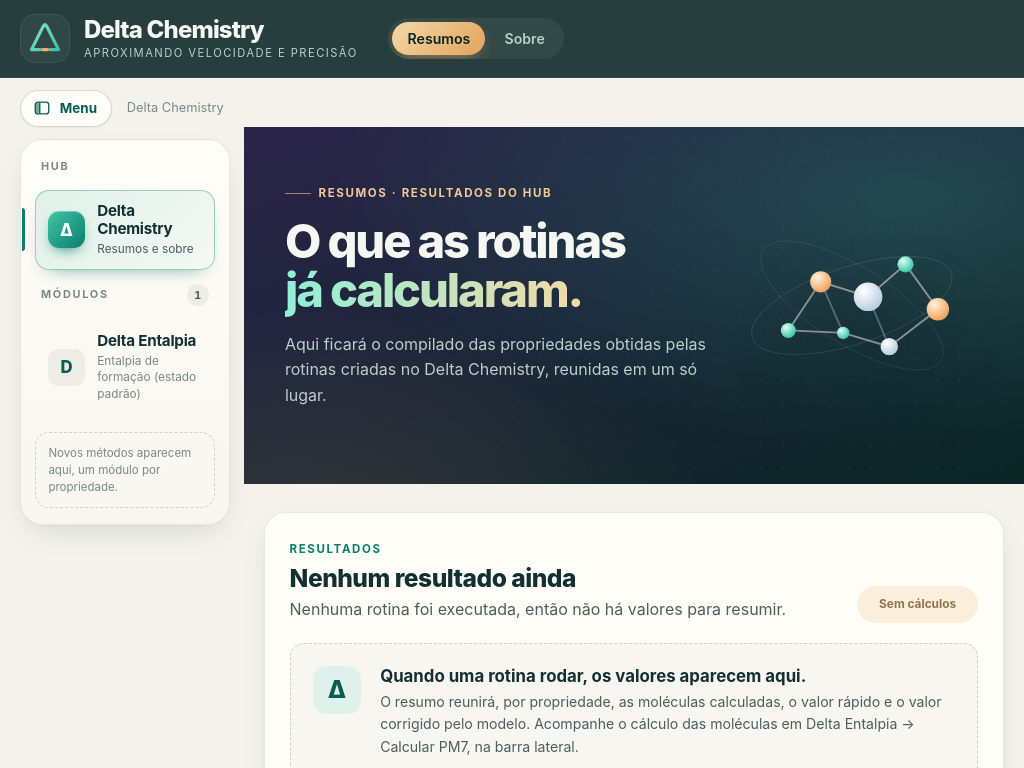
abre no hub Delta Chemistry: Resumos e Sobre, sem as abas do módulo
Expected: the heading "Nenhum resultado ainda" is shown, [290, 563, 576, 593]
Click the button "Sobre" at (525, 38), box [489, 22, 560, 55]
(page scrolled)
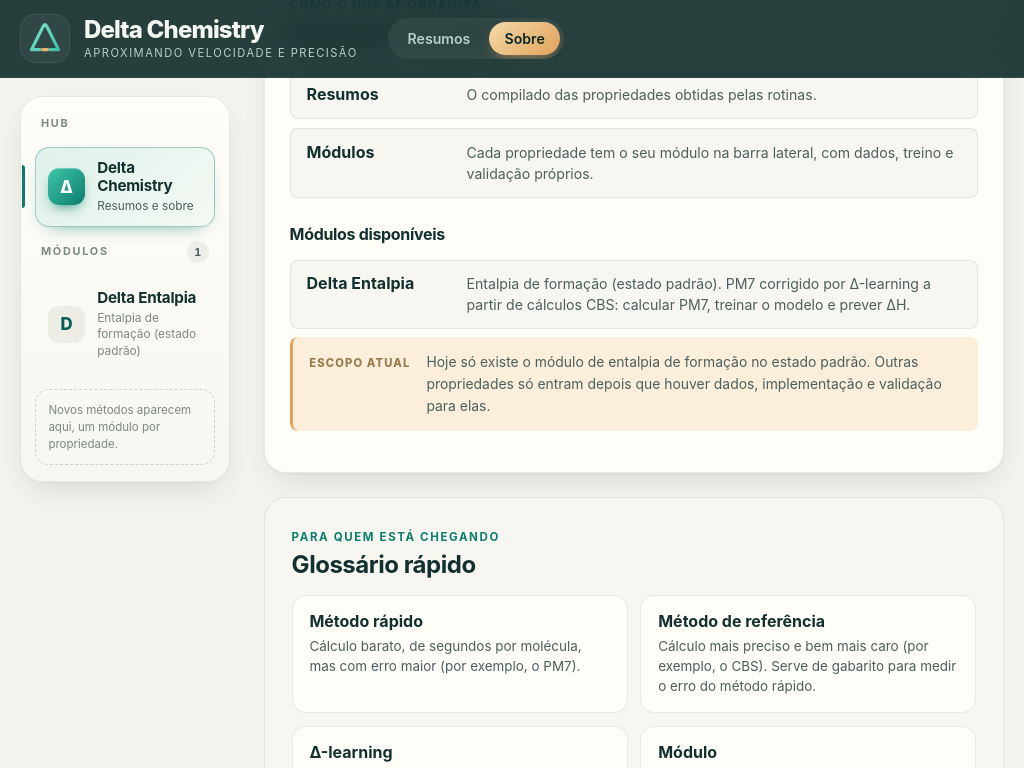
Now the text "Hoje só existe o módulo de entalpia de formação" is shown, box [426, 354, 942, 414]
